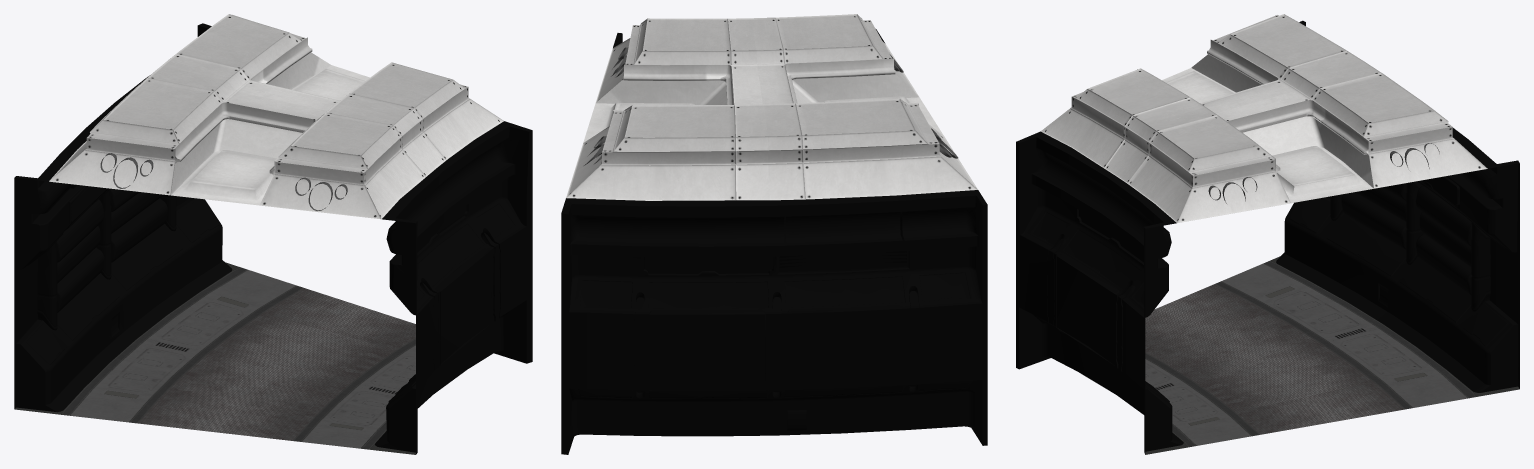
Rendered from HallwayBendB.fbx.
3 views of the same model, side by side, from view 1: azimuth 30°, elevation 25°; view 2: azimuth 150°, elevation 25°; view 3: azimuth 270°, elevation 25° (orthographic). The views are drawn at different scales.
Visible parts, largest first — view 1: HallwayBendB001; view 2: HallwayBendB001; view 3: HallwayBendB001.
Part boxes in pixels (x1,y1,x2,y2): HallwayBendB001: [14, 14, 532, 454]; HallwayBendB001: [561, 14, 987, 454]; HallwayBendB001: [1016, 14, 1519, 454].
Bounding box in the file's own units: 790 × 478 × 808.
